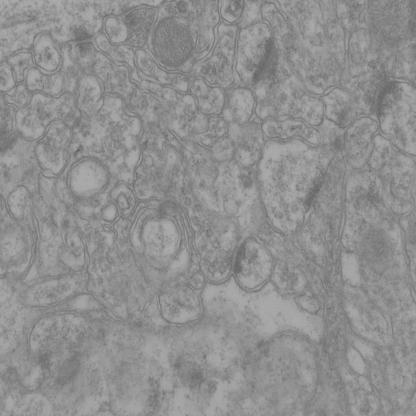mitochondria: (153, 17, 192, 66)
